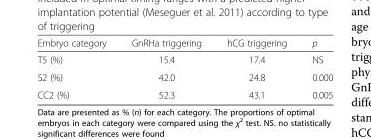table: (36, 36, 332, 100)
table column: (118, 36, 213, 100), (213, 36, 298, 100), (36, 36, 118, 100), (298, 36, 332, 100)
table column header: (36, 36, 332, 50)
table row: (36, 67, 332, 85), (36, 50, 332, 67), (36, 85, 332, 100), (36, 36, 332, 50)
